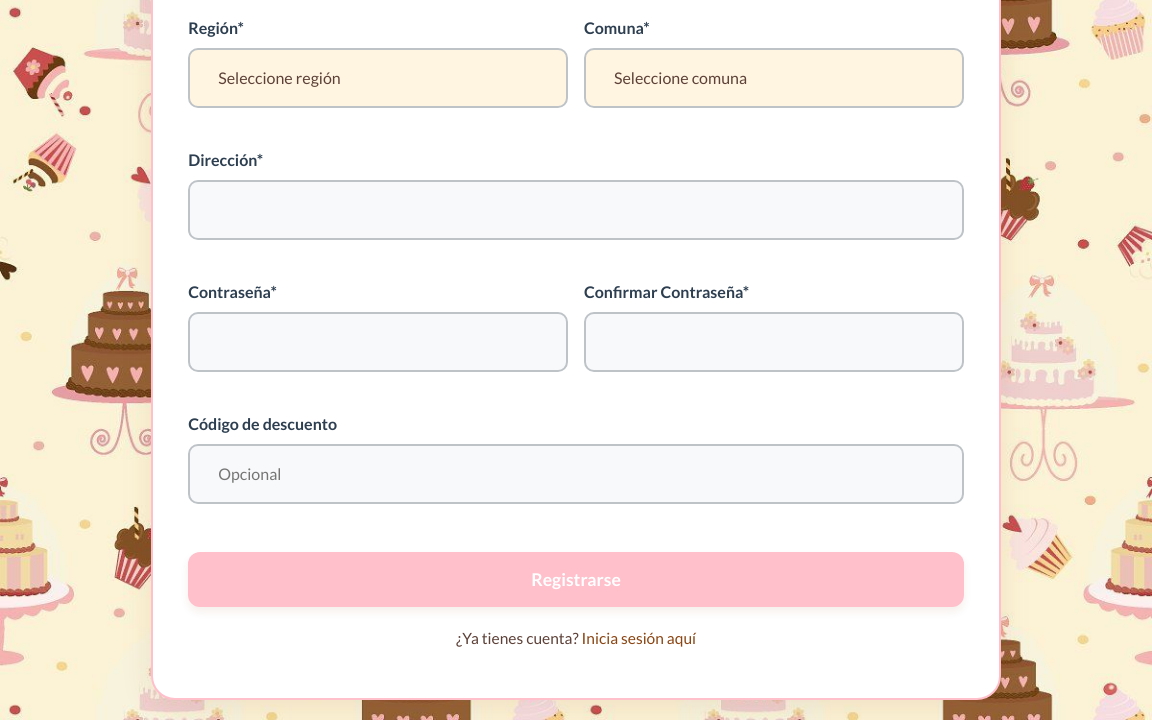
Test case: Register Component › PRUEBA_03: Valida campos obligatorios
(page scrolled)
What coordinates should you click on to do the following:
click the button "Registrarse"
I would click on:
 (576, 580)
Its box is [188,552,964,607].
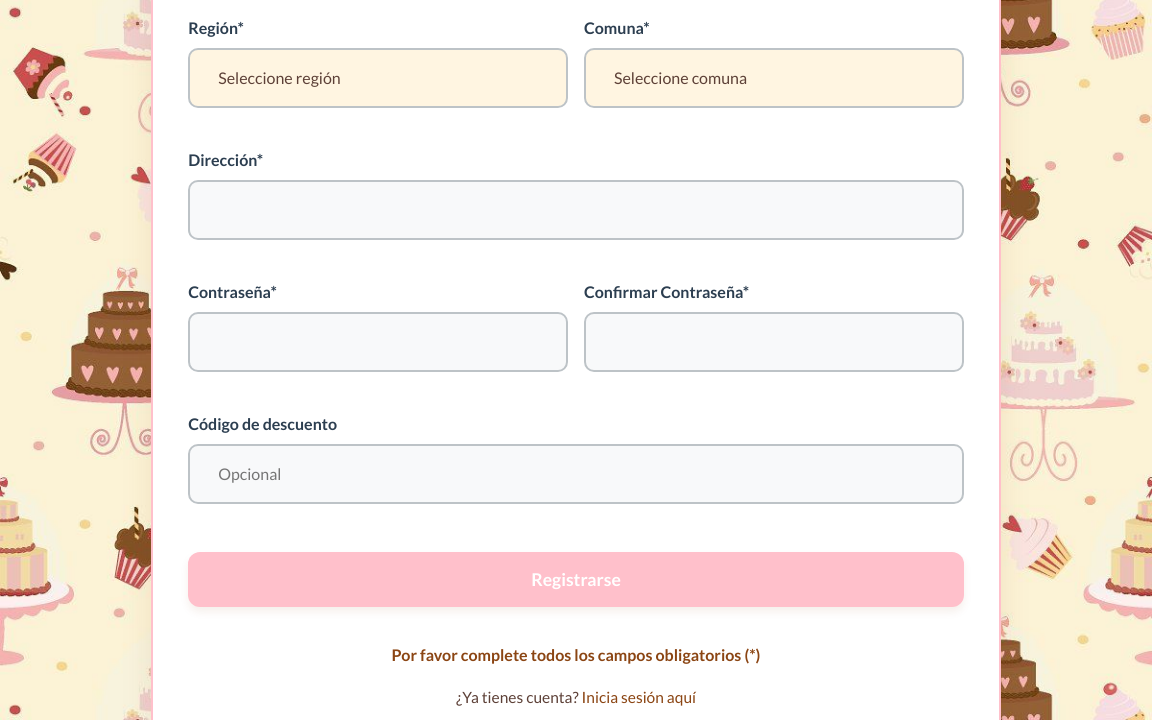
Result: the text "Por favor complete todos los campos obligatorios (*)" is shown at [392,645,760,664]
